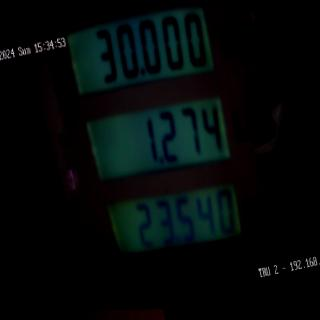screen: (56, 0, 264, 291)
